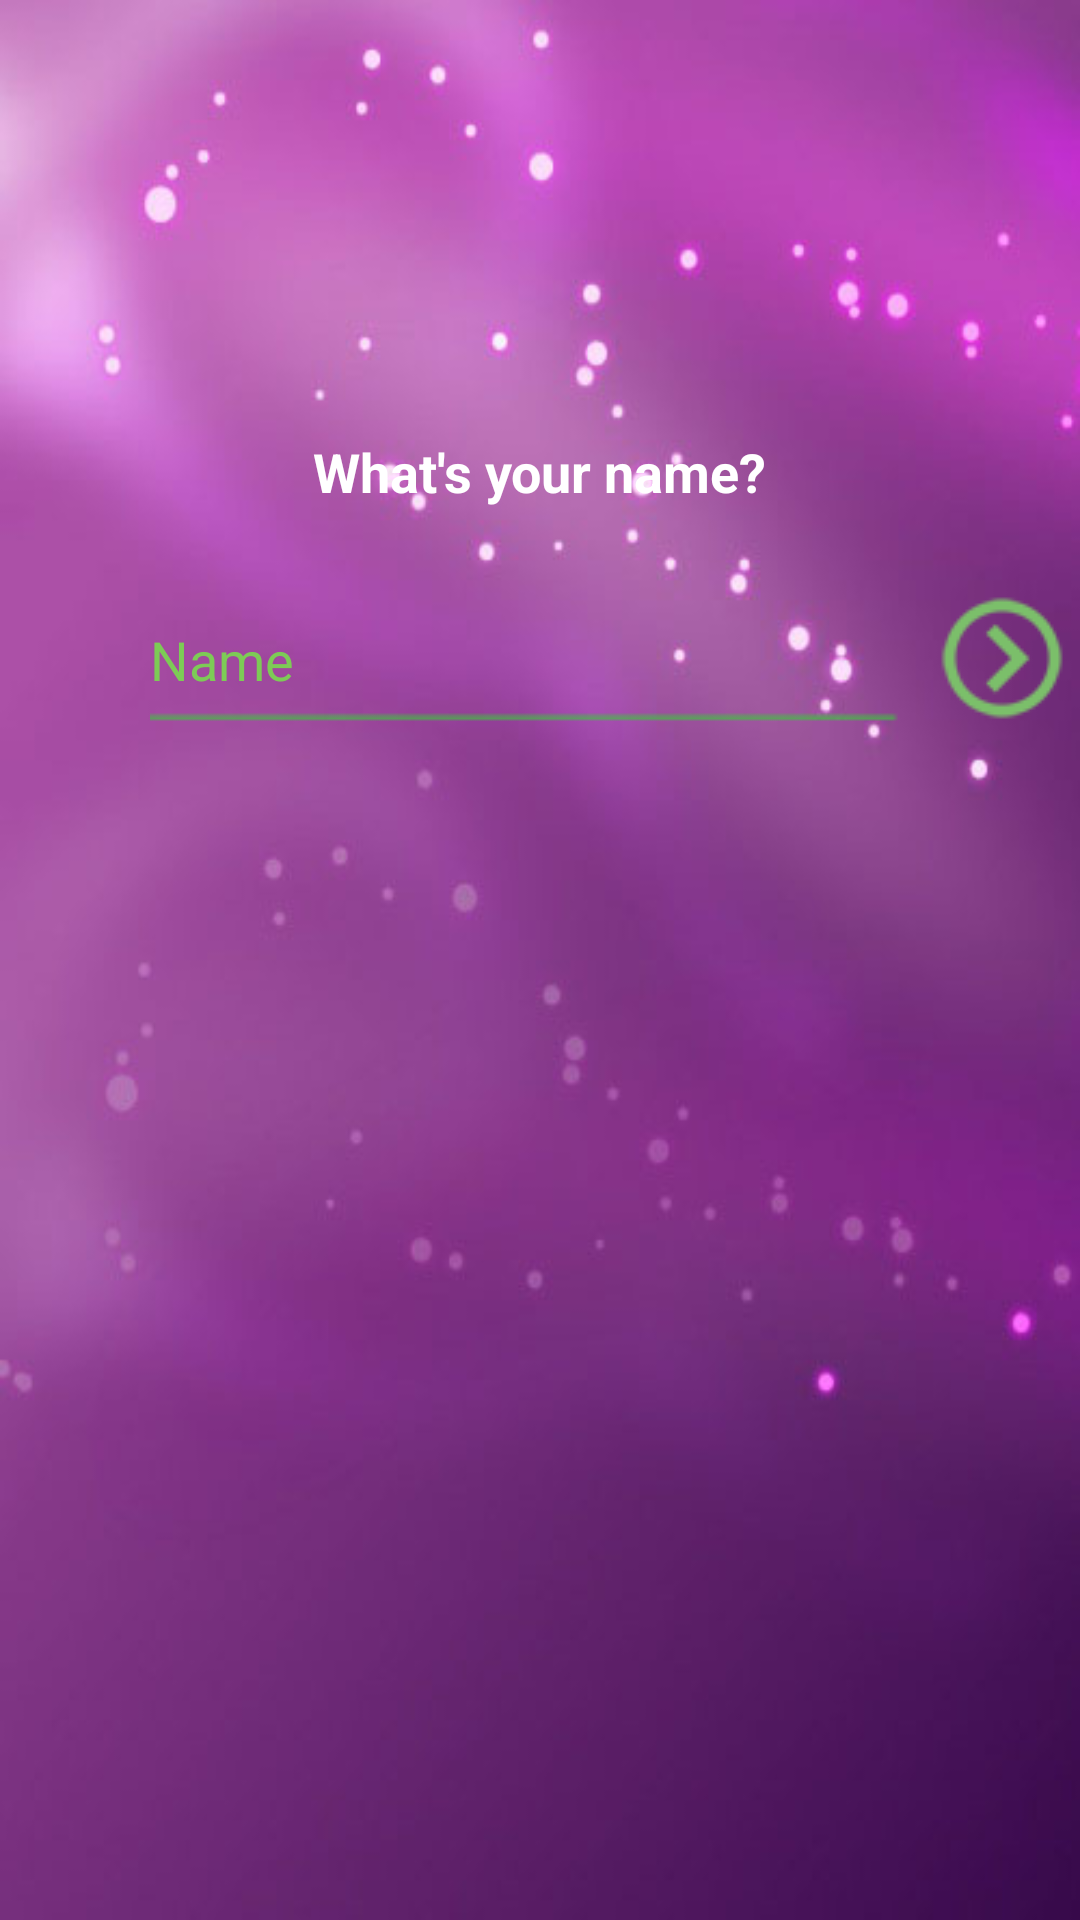

Point at icon controls on the screen. Image size 1080 x 1920, points as point (x, y).
arrowsmall: point (1002, 658)
